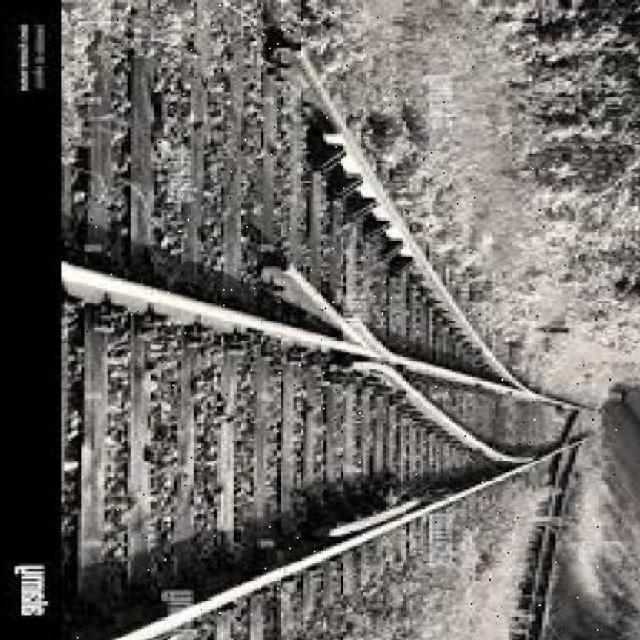rail: (67, 6, 622, 639)
